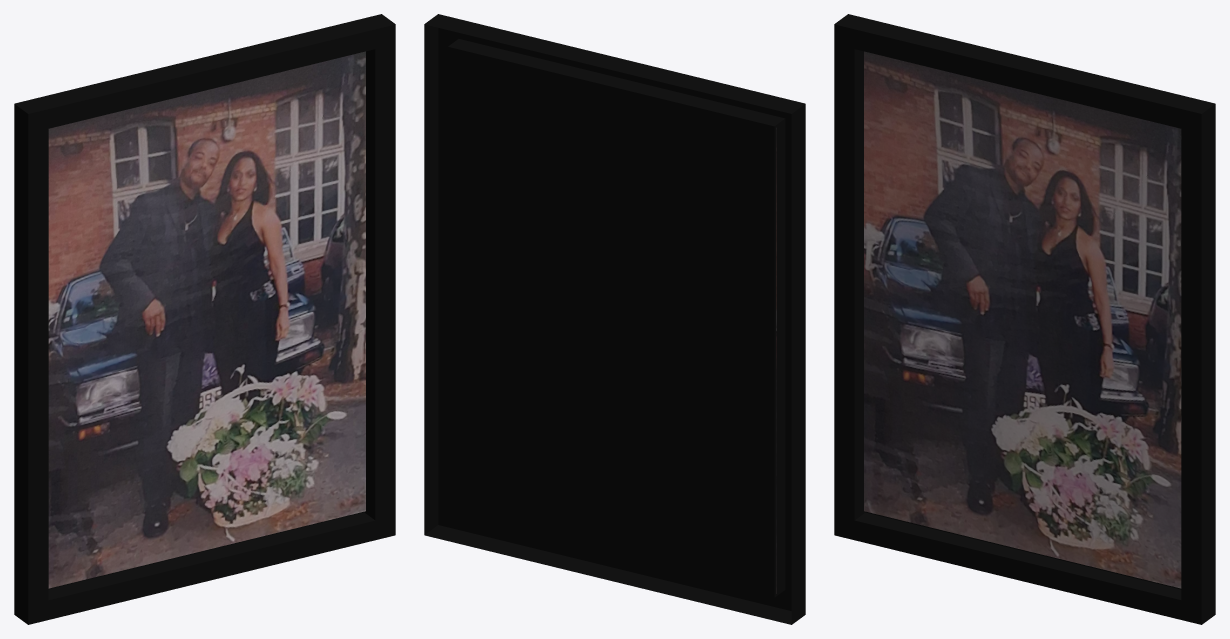
The model's file is Mom Dad Picture 01.fbx.
The picture shows the model from 3 angles, left to right: view 1: azimuth 30°, elevation 25°; view 2: azimuth 150°, elevation 25°; view 3: azimuth 330°, elevation 25°; orthographic projection.
Visible parts, largest first — view 1: Mom Dad Picture.001; view 2: Mom Dad Picture.001; view 3: Mom Dad Picture.001.
Part boxes in pixels (<box>): Mom Dad Picture.001: <box>14,14,395,624</box>; Mom Dad Picture.001: <box>424,14,805,624</box>; Mom Dad Picture.001: <box>834,14,1215,624</box>.
Bounding box in the file's own units: 0.825 × 1.1 × 0.0548.
